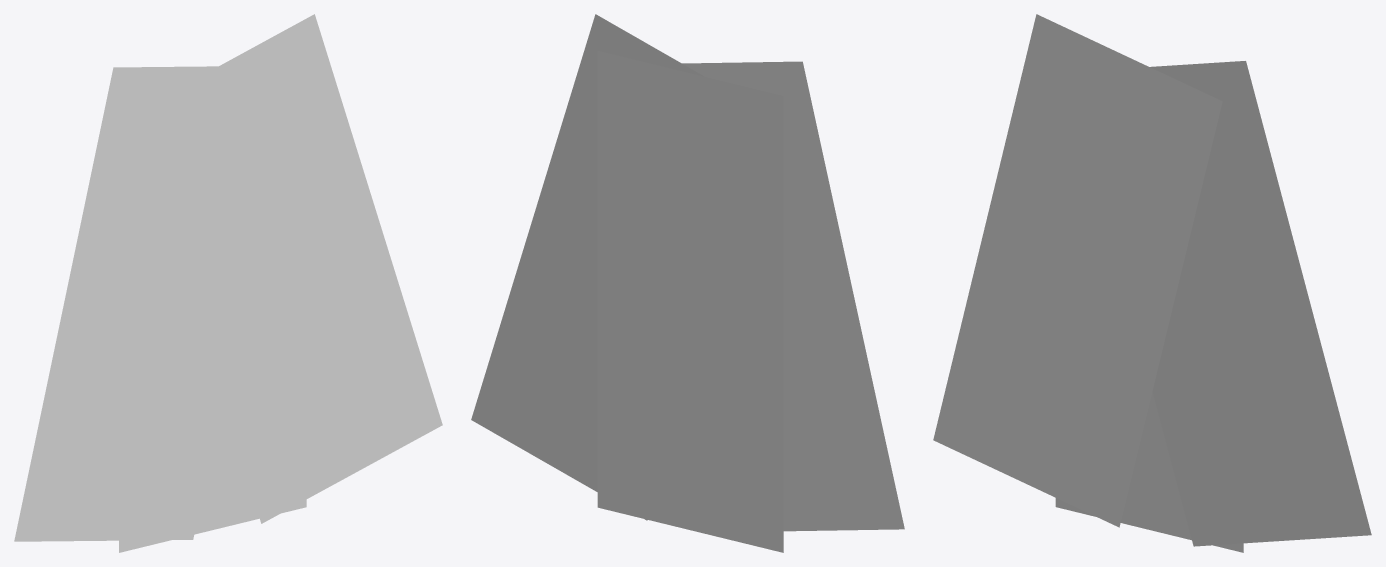
Rendered from godRays.glb.
3 views of the same model, side by side, from view 1: azimuth 30°, elevation 25°; view 2: azimuth 150°, elevation 25°; view 3: azimuth 330°, elevation 25° (orthographic).
Parts seen in each view (by area): view 1: 2990057.002, 2990057.001, 2990057; view 2: 2990057, 2990057.002, 2990057.001; view 3: 2990057.002, 2990057.001, 2990057.
Boxes of the visible parts, x1=… form: 2990057.002: x1=14, y1=65, x2=292, y2=541; 2990057.001: x1=219, y1=14, x2=442, y2=523; 2990057: x1=119, y1=400, x2=306, y2=552; 2990057: x1=597, y1=50, x2=783, y2=552; 2990057.002: x1=682, y1=61, x2=904, y2=531; 2990057.001: x1=471, y1=14, x2=704, y2=520; 2990057.002: x1=933, y1=14, x2=1222, y2=527; 2990057.001: x1=1150, y1=61, x2=1371, y2=546; 2990057: x1=1055, y1=391, x2=1243, y2=552.
Bounding box in the file's own units: 18.23 × 20.02 × 0.6261.
Materials: 1 (1 with a texture image).
